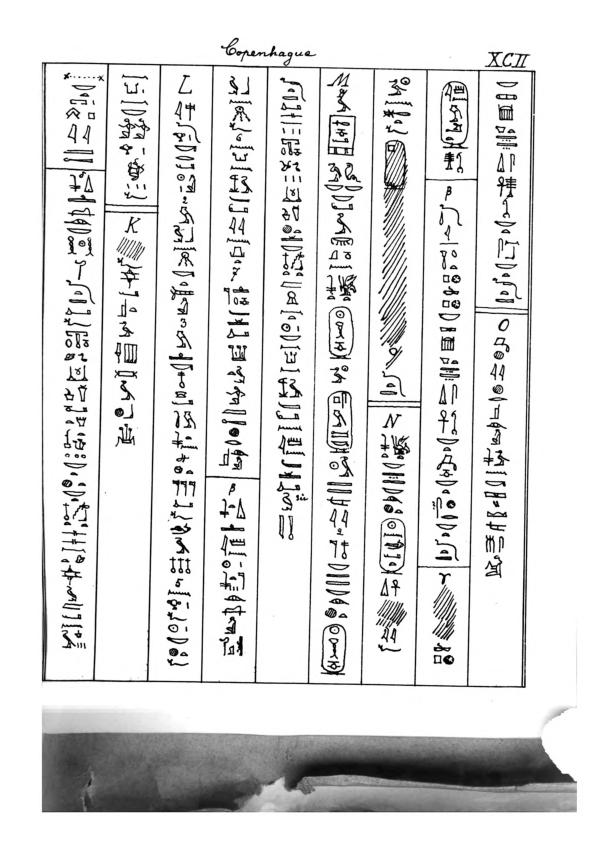circle: (436, 78, 472, 152), (324, 389, 355, 456), (377, 516, 408, 578), (327, 303, 356, 363), (320, 622, 346, 677)
